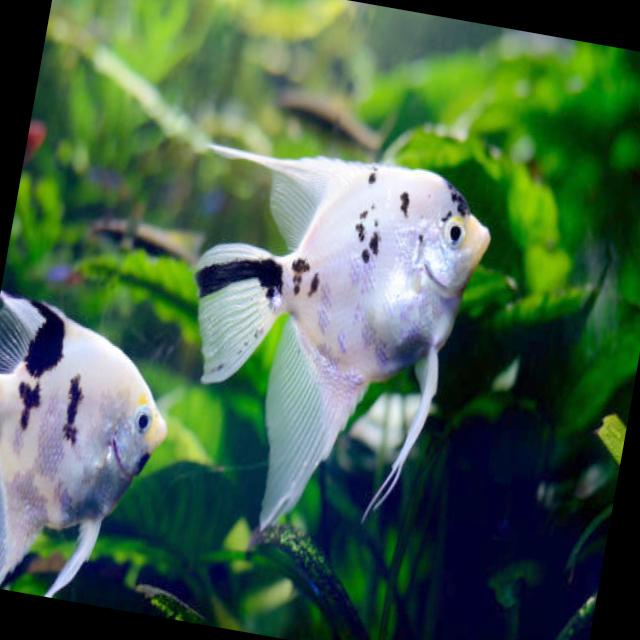AngelFish: (147, 130, 501, 573), (0, 270, 190, 612)
